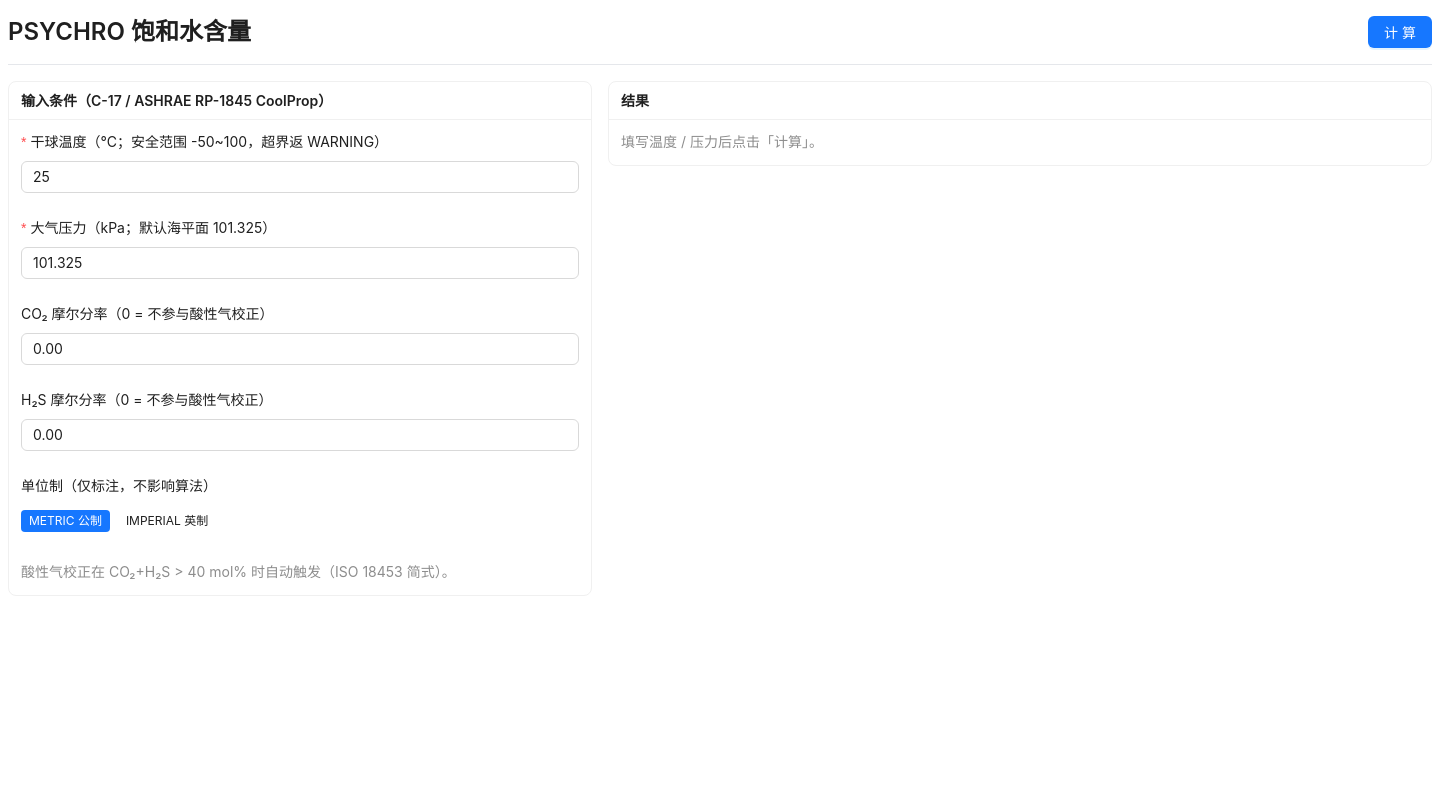
Test: SaturationWaterContentPage — 计算路径 › temperature_out_of_range=true → 渲染 warning Alert
Click the button with test id "saturation-w-calculate" at [1400, 32], box x1=1368 y1=16 x2=1432 y2=48
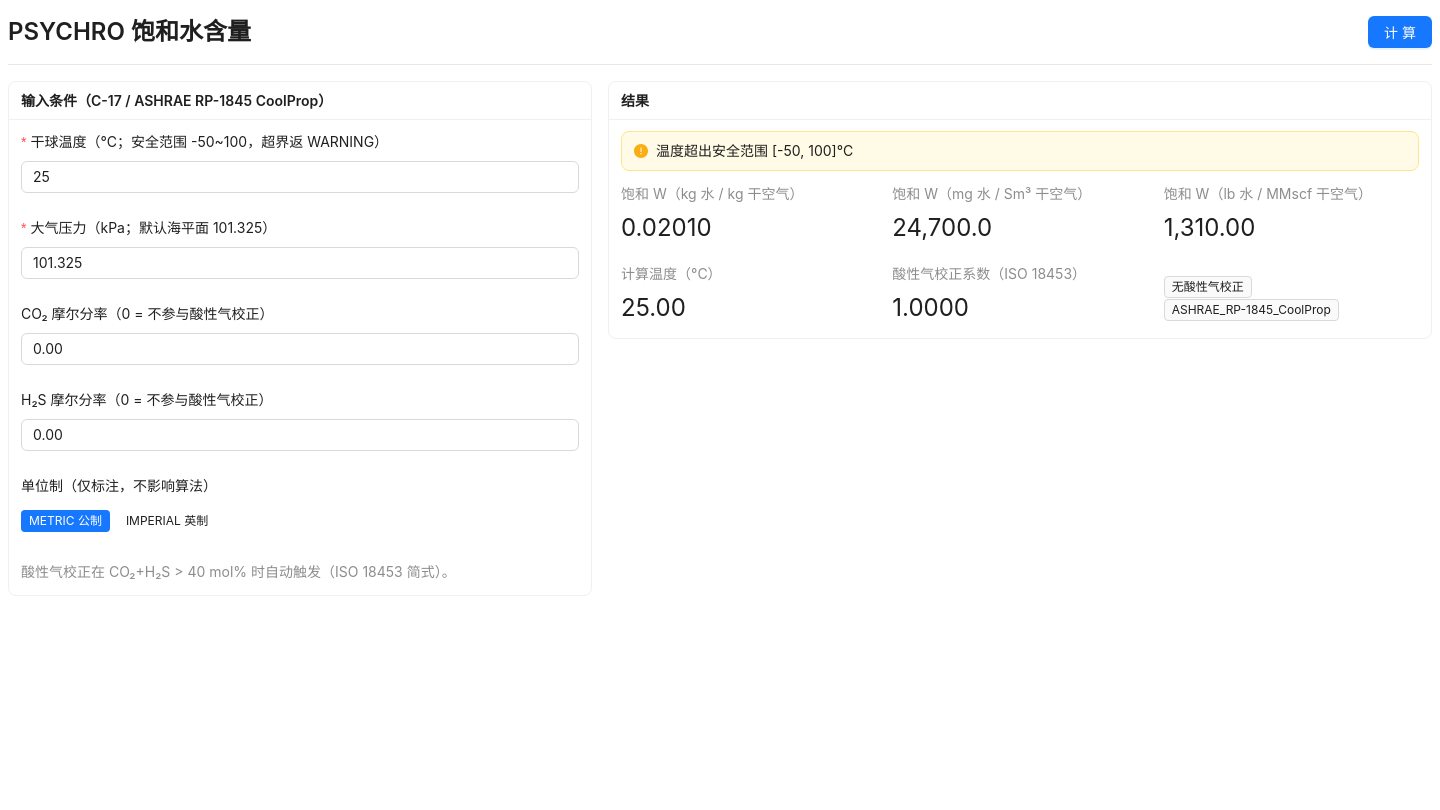
Expected: the message "温度超出安全范围 [-50, 100]°C" is shown, x1=621 y1=131 x2=1419 y2=171
Expected: the message with test id "saturation-w-warning" shows "温度超出安全范围", x1=656 y1=142 x2=853 y2=159
